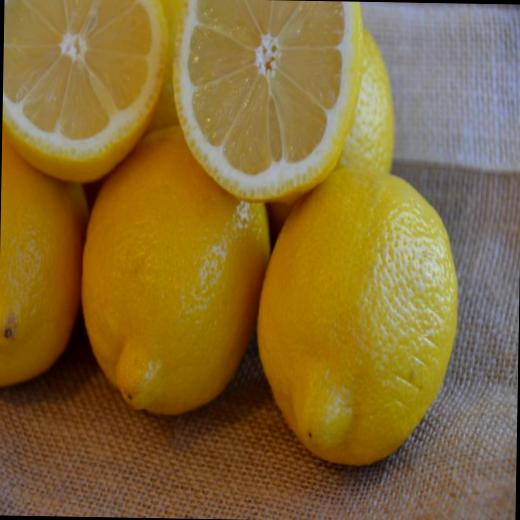Grape: (248, 151, 460, 473), (77, 123, 274, 416), (171, 0, 365, 207), (1, 0, 170, 185), (0, 130, 95, 388), (341, 30, 399, 170)
